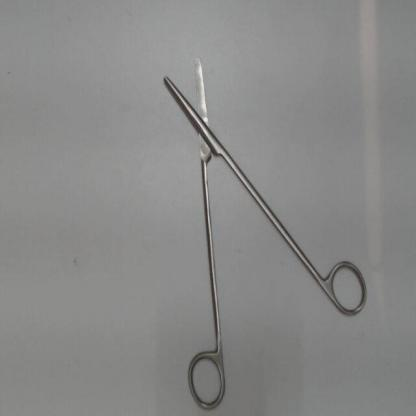9 Metzenbaum Scissors: (157, 53, 372, 413)
